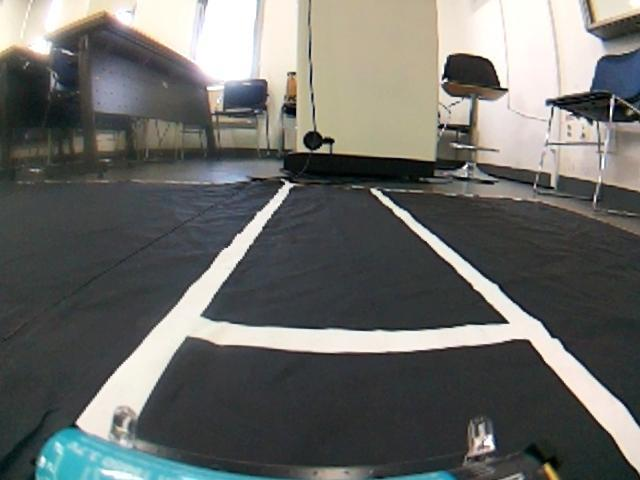straight: (0, 187, 640, 480)
